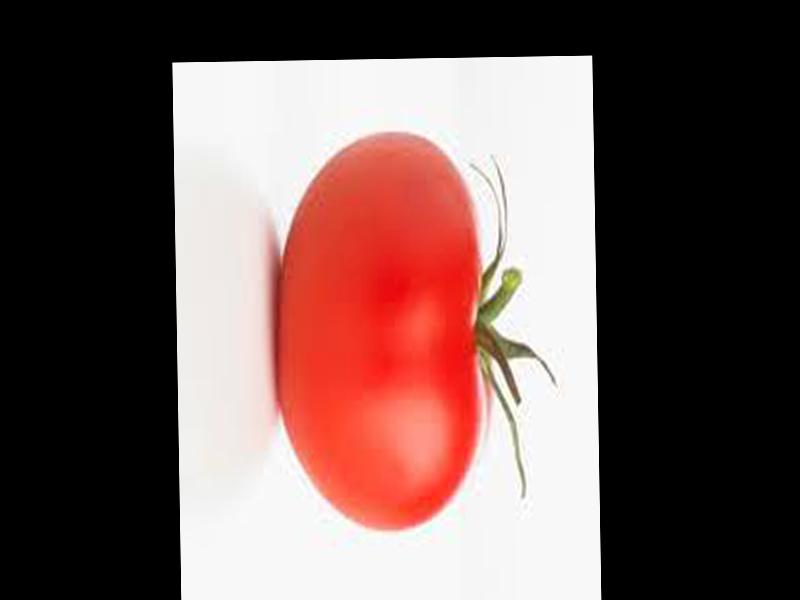Tomato: (274, 133, 486, 532)
